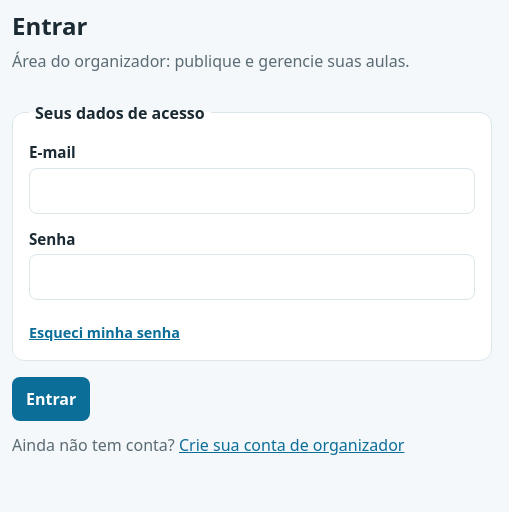
Scenario: EntrarPage › mostra o erro de credenciais
In the field labelled "E-mail": {"x": 252, "y": 191} [29,168,475,214], type "ana@exemplo.com"
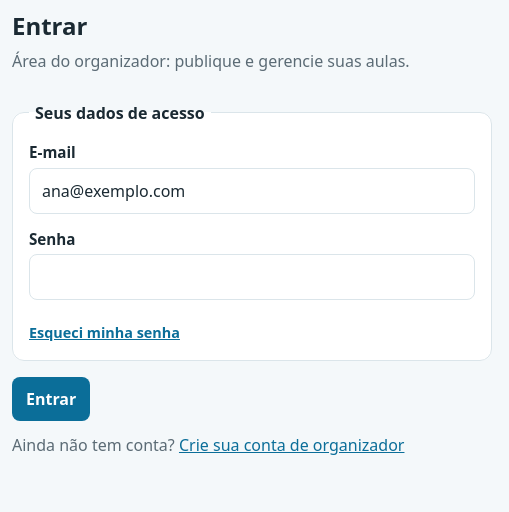
In the password field labelled "Senha": {"x": 252, "y": 277} [29,254,475,300], type "errada"
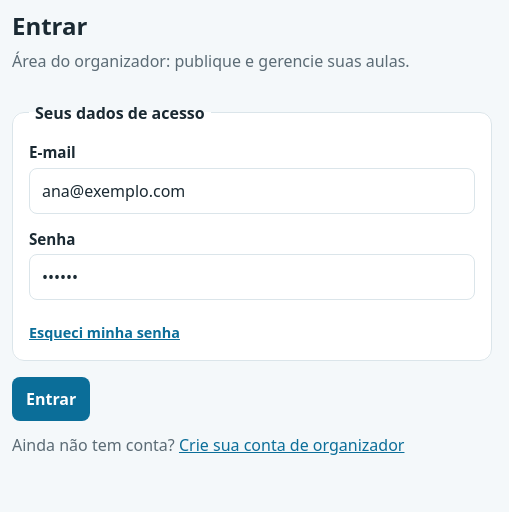
Click the button "Entrar": {"x": 51, "y": 399} [12,377,90,421]
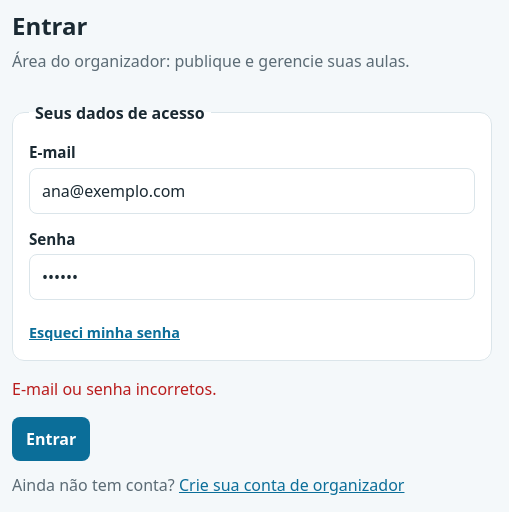
Now the message reads "E-mail ou senha incorretos.", box [12,378,216,400]
